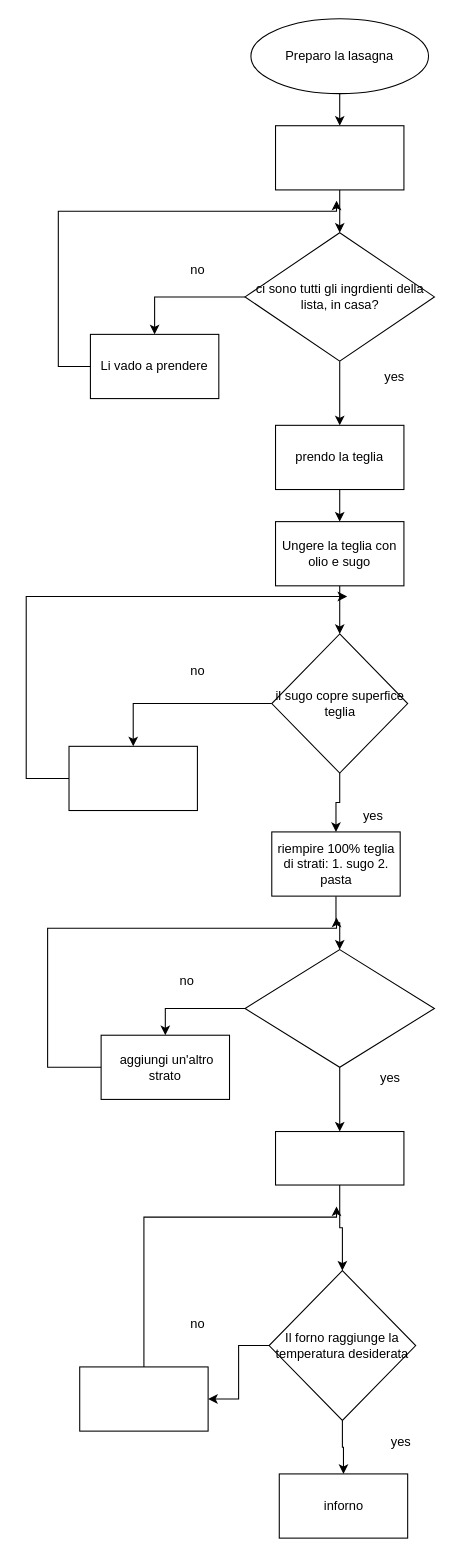
The diagram is 454 pixels wide and 1557 high, and some of its shapes have lost their labels. The shapes that lost their labels are listed below. From the top down, each one's box as (x1, y1, x2, y2) in pixels, then its label:
(274, 125, 404, 190): controllare la lista
(68, 745, 197, 811): aggiungi sugo fino a coprire intera superfice della teglia
(244, 949, 434, 1067): HAI RIEMPITO LA TEGLIA DI STRATI?
(274, 1130, 404, 1185): mettere in forno preriscaldato
(79, 1366, 208, 1431): se il forno non è a temperatura aspetto
